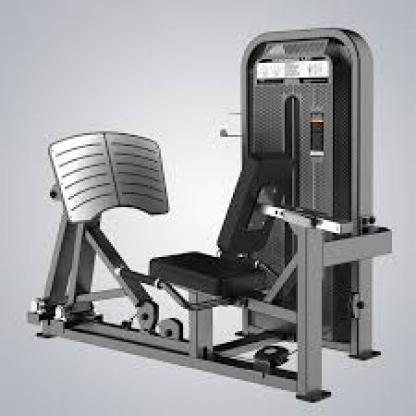leg press: (25, 22, 408, 406)
